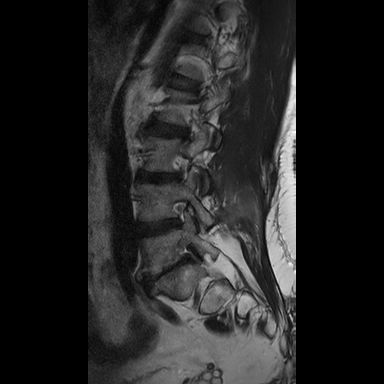RFS1: (166, 193, 197, 235)
